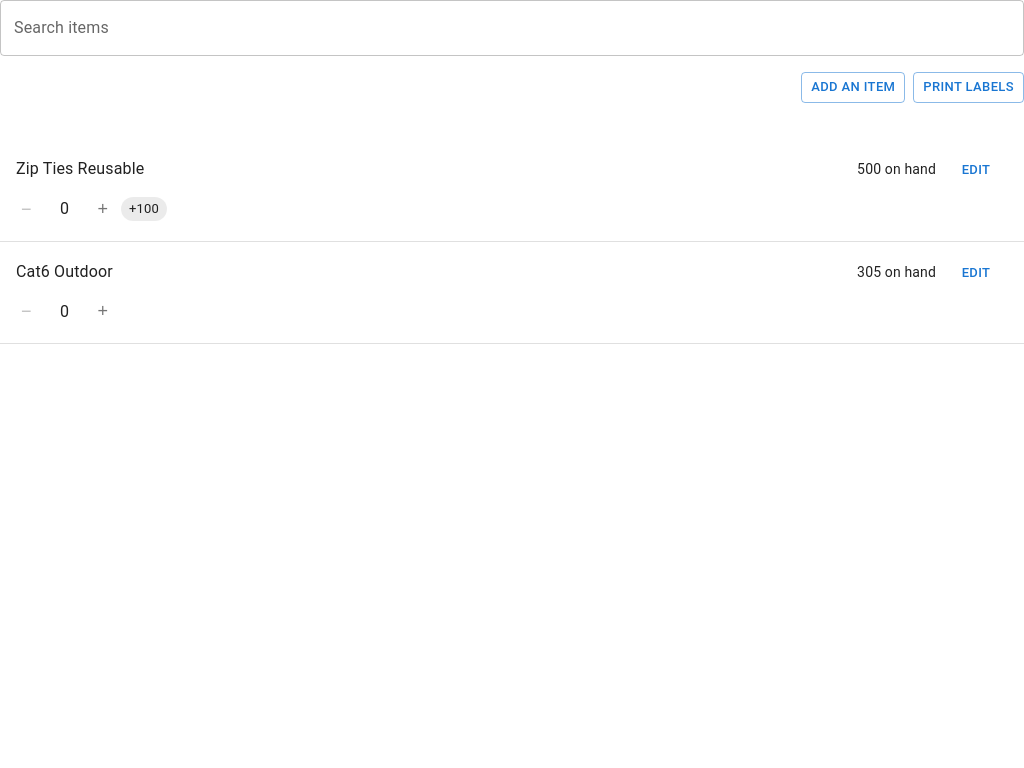
Test case: what an administrator sees › edits it in place, without leaving the app
The width and height of the screenshot is (1024, 768).
Check: the heading "Zip Ties Reusable" is shown, box x1=16 y1=155 x2=144 y2=183
Click the button with aria-label "edit zip ties reusable" at coordinates (976, 170), box x1=944 y1=155 x2=1008 y2=186
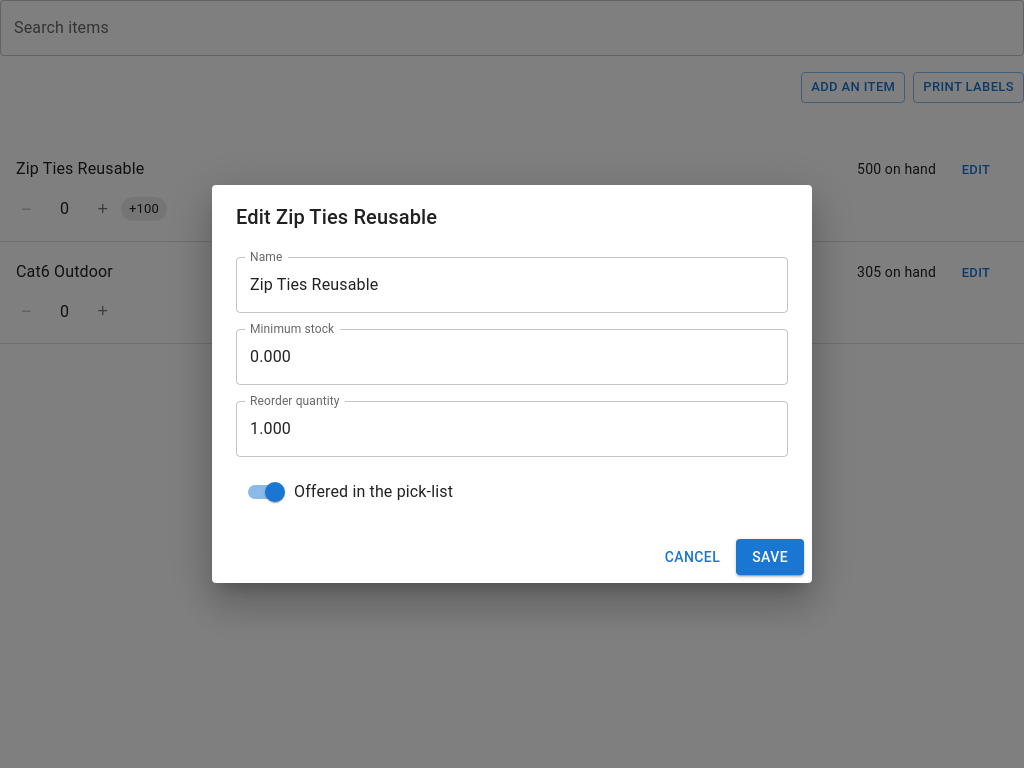
Replace the text in the field labelled "Name" with "Zip Ties" at coordinates (512, 285), box x1=236 y1=257 x2=788 y2=313
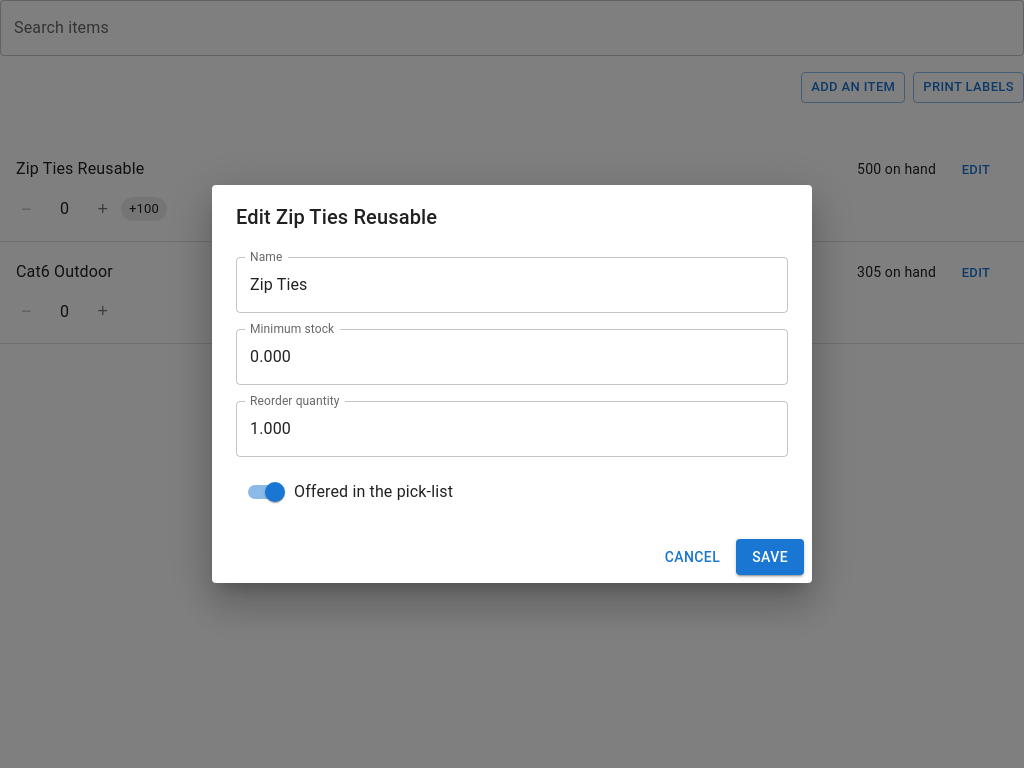
Click the button "Save" at coordinates (770, 557), box x1=736 y1=539 x2=804 y2=575
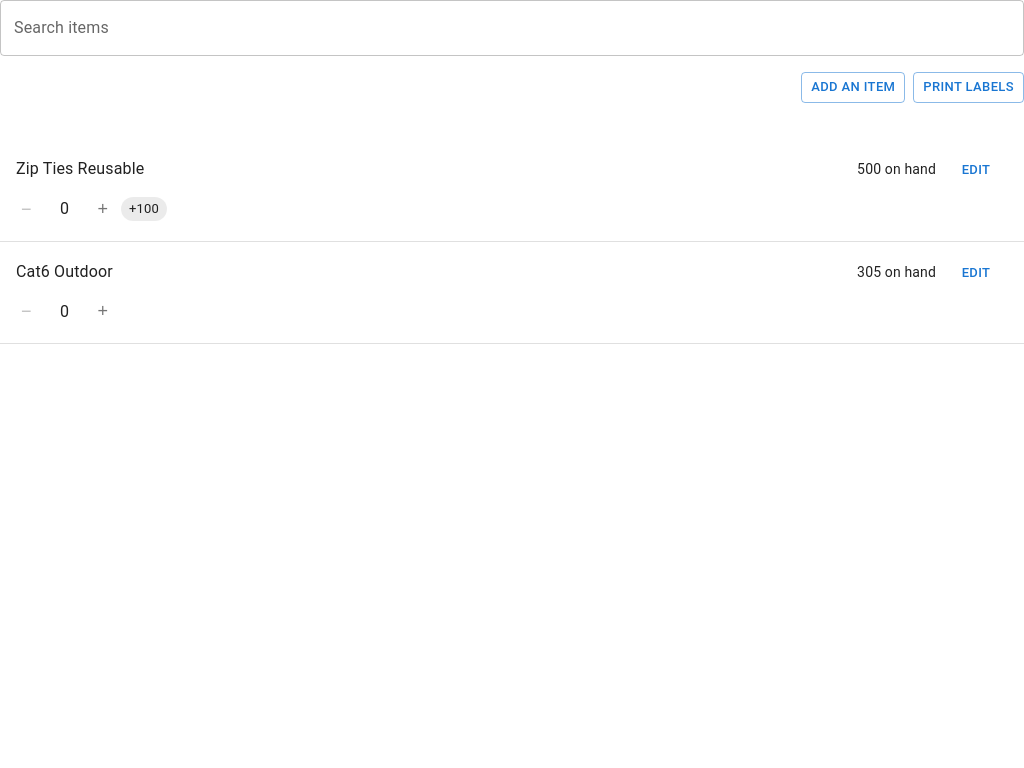
Check: the dialog is gone
